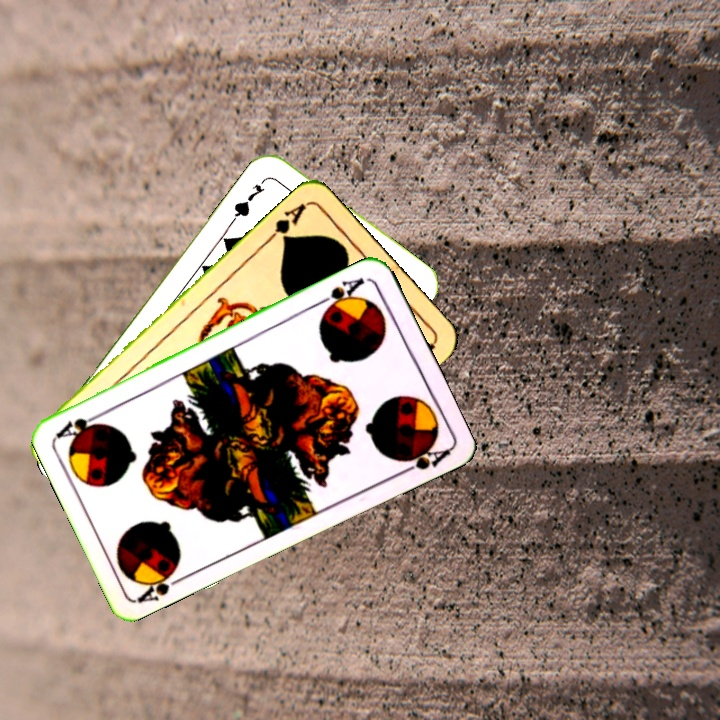G7: (228, 173, 270, 224)
GA: (262, 198, 310, 246)
SA: (134, 561, 189, 606), (314, 273, 368, 316)
